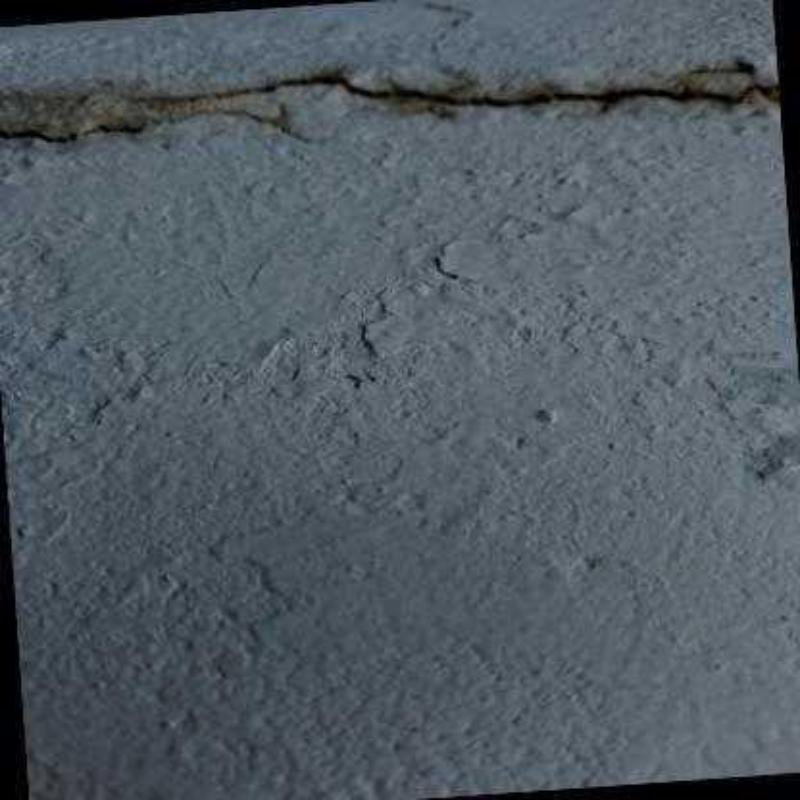crack: (140, 76, 780, 108), (0, 110, 325, 144)
